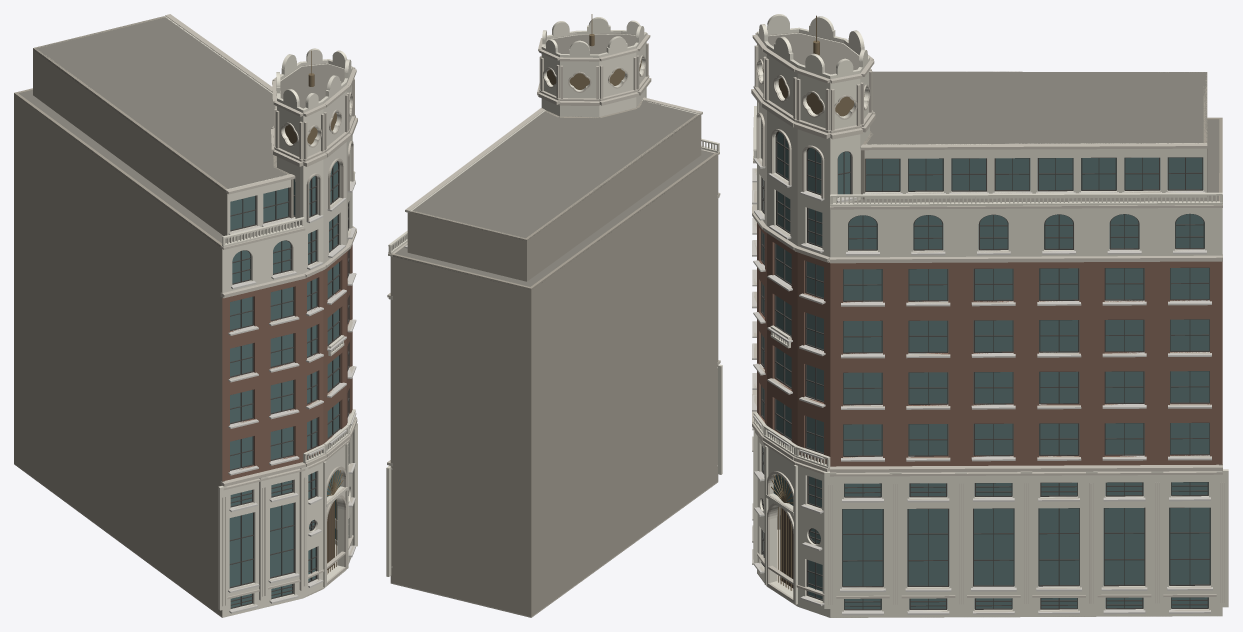
Rendered from huangpu-four-banks-savings-building-web.glb.
3 views of the same model, side by side, from view 1: azimuth 30°, elevation 25°; view 2: azimuth 150°, elevation 25°; view 3: azimuth 270°, elevation 25° (orthographic). The views are drawn at different scales.
Parts seen in each view (by area): view 1: 四行储蓄会大楼（四川中路261号联合大楼）; view 2: 四行储蓄会大楼（四川中路261号联合大楼）; view 3: 四行储蓄会大楼（四川中路261号联合大楼）.
Part boxes in pixels (bbox=[...]): 四行储蓄会大楼（四川中路261号联合大楼）: bbox=[14, 14, 357, 617]; 四行储蓄会大楼（四川中路261号联合大楼）: bbox=[386, 14, 722, 617]; 四行储蓄会大楼（四川中路261号联合大楼）: bbox=[751, 14, 1228, 617].
Size of the model in its own units: 17.24 by 49.99 by 37.49.
